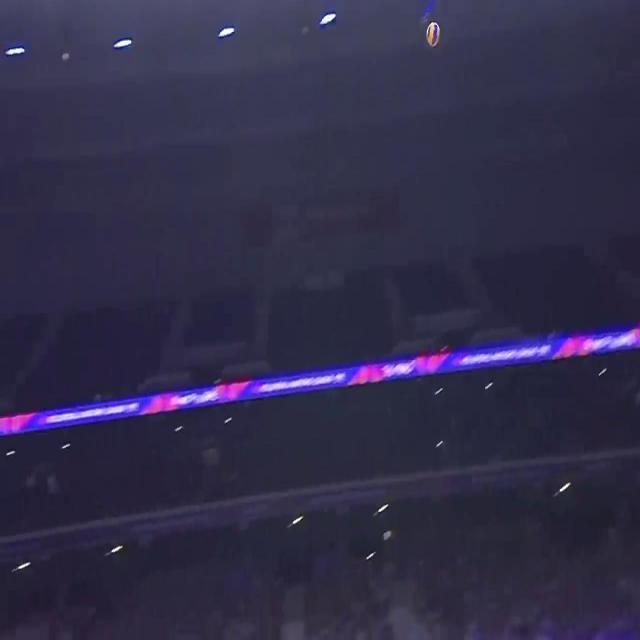volleyball: (426, 22, 441, 46)
